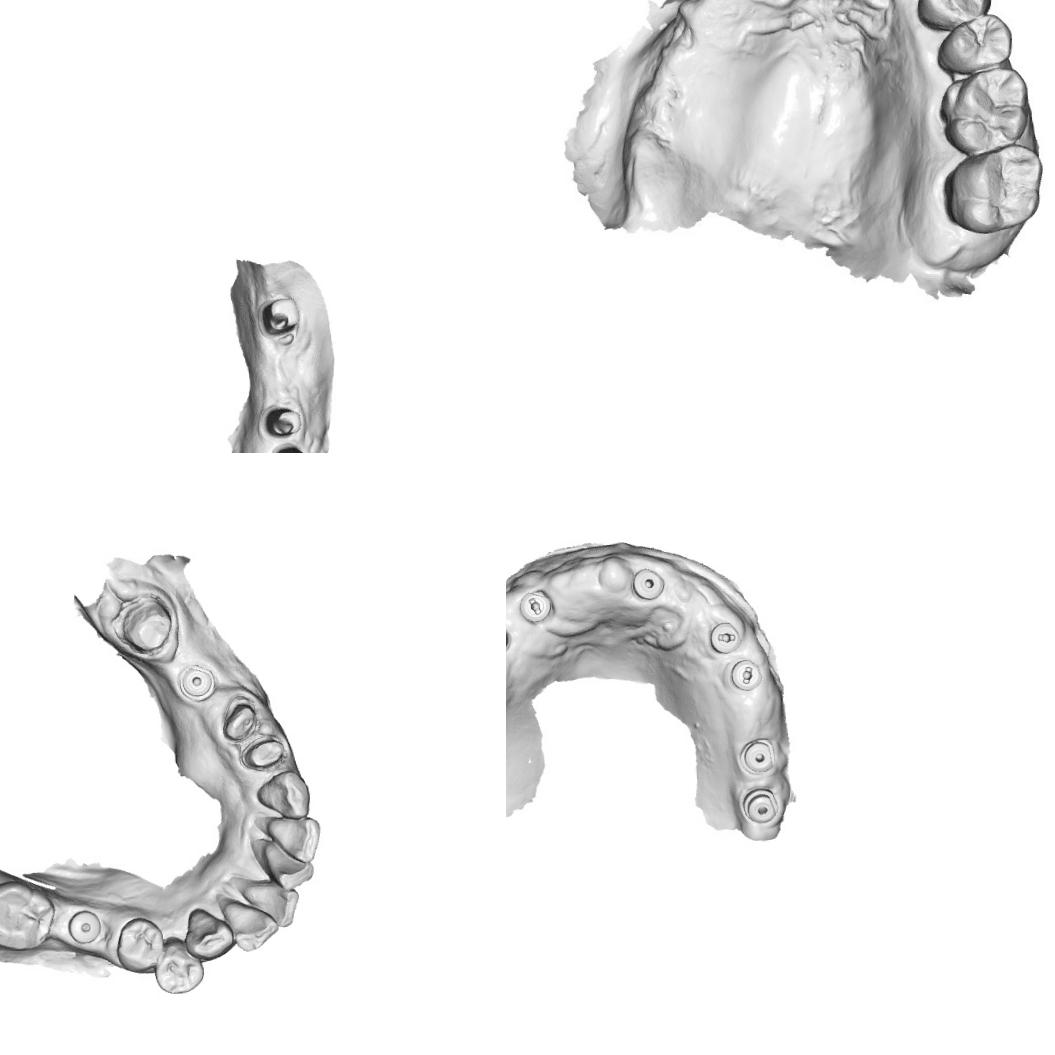abutment: (257, 292, 303, 341), (260, 399, 306, 442), (265, 440, 311, 453)
canine: (182, 904, 238, 962), (255, 766, 310, 823)
crown: (113, 590, 179, 656), (238, 728, 294, 775), (216, 691, 262, 741)
implant: (173, 654, 220, 705), (735, 734, 781, 778), (626, 562, 668, 608), (738, 786, 783, 828), (66, 905, 106, 946)
implant_minus: (703, 616, 746, 659), (516, 586, 557, 626), (724, 656, 764, 694)
incisor: (259, 834, 320, 893), (219, 898, 282, 954), (264, 810, 324, 866), (238, 877, 300, 930)
molar: (944, 144, 1044, 232), (938, 62, 1032, 150), (0, 875, 59, 955)
premolar: (940, 12, 1011, 70), (113, 913, 169, 976), (152, 935, 208, 997), (917, 0, 990, 25)
